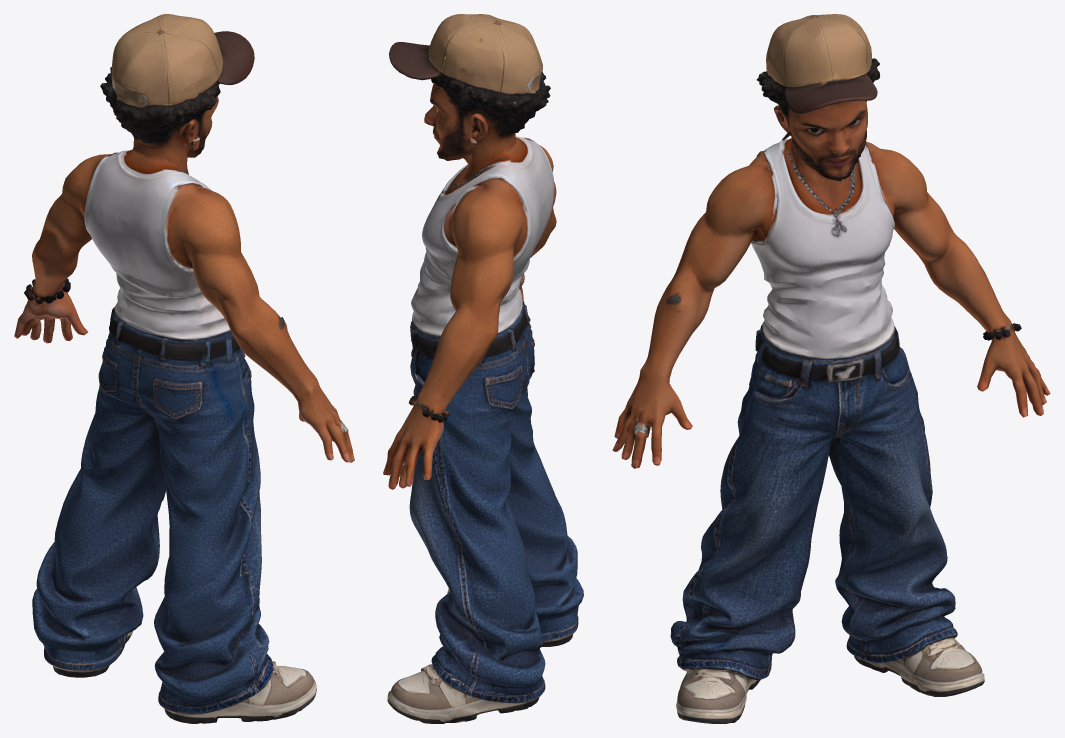
Rendered from tices.glb.
3 renders of one model, left to right at view 1: azimuth 30°, elevation 25°; view 2: azimuth 150°, elevation 25°; view 3: azimuth 270°, elevation 25°, orthographic. The views are drawn at different scales.
Parts seen in each view (by area): view 1: tripo_node_f544a6f4-3992-4578-a366-c1f0db2b7d40; view 2: tripo_node_f544a6f4-3992-4578-a366-c1f0db2b7d40; view 3: tripo_node_f544a6f4-3992-4578-a366-c1f0db2b7d40.
Boxes of the visible parts, x1=… form: tripo_node_f544a6f4-3992-4578-a366-c1f0db2b7d40: x1=14, y1=14, x2=354, y2=723; tripo_node_f544a6f4-3992-4578-a366-c1f0db2b7d40: x1=383, y1=14, x2=583, y2=723; tripo_node_f544a6f4-3992-4578-a366-c1f0db2b7d40: x1=612, y1=14, x2=1050, y2=723.
Bounding box in the file's own units: 0.3059 × 0.9994 × 0.5909.
Materials: 1 (1 with a texture image).
